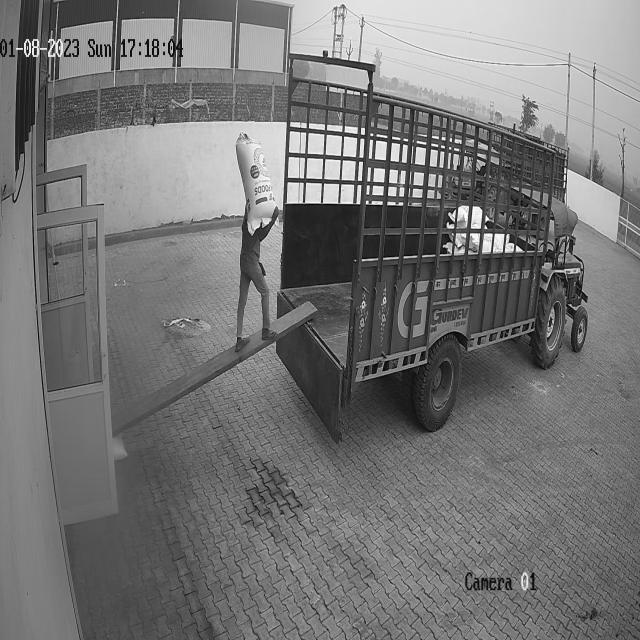sack: (236, 132, 278, 234)
